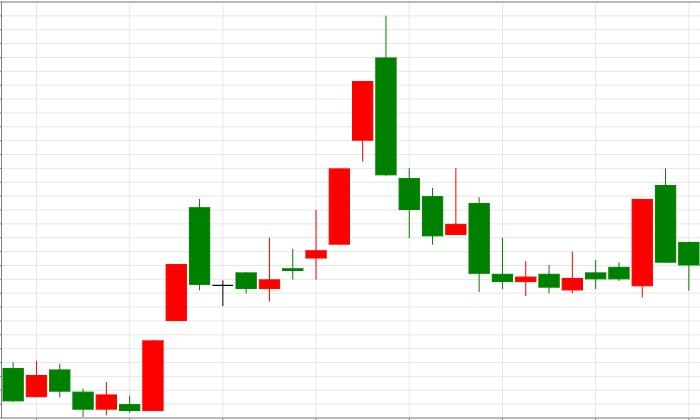bearish_engulfing_fall: (258, 15, 397, 302)
